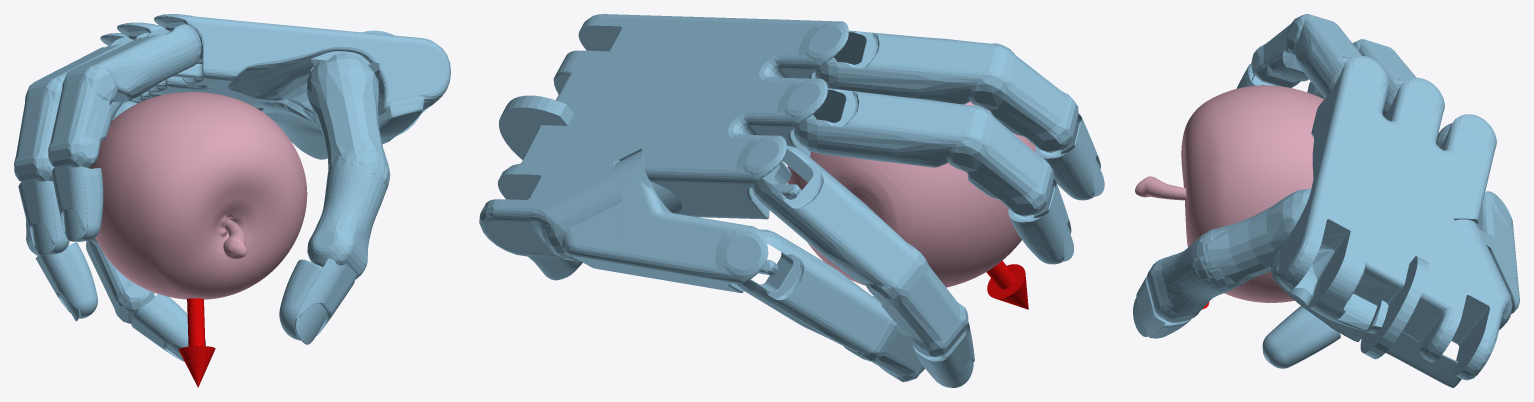
3 views of the same model, side by side, from view 1: azimuth 30°, elevation 25°; view 2: azimuth 150°, elevation 25°; view 3: azimuth 270°, elevation 25° (orthographic). The views are drawn at different scales.
Visible parts, largest first — view 1: world, apple.stl; view 2: world, apple.stl; view 3: world, apple.stl.
Part boxes in pixels (bbox=[...]): world: bbox=[14, 14, 450, 387]; apple.stl: bbox=[89, 92, 307, 299]; world: bbox=[479, 14, 1104, 387]; apple.stl: bbox=[787, 101, 1036, 287]; world: bbox=[1133, 14, 1519, 387]; apple.stl: bbox=[1135, 85, 1324, 302].
Size of the model in its own units: 0.1777 by 0.1239 by 0.1358.
